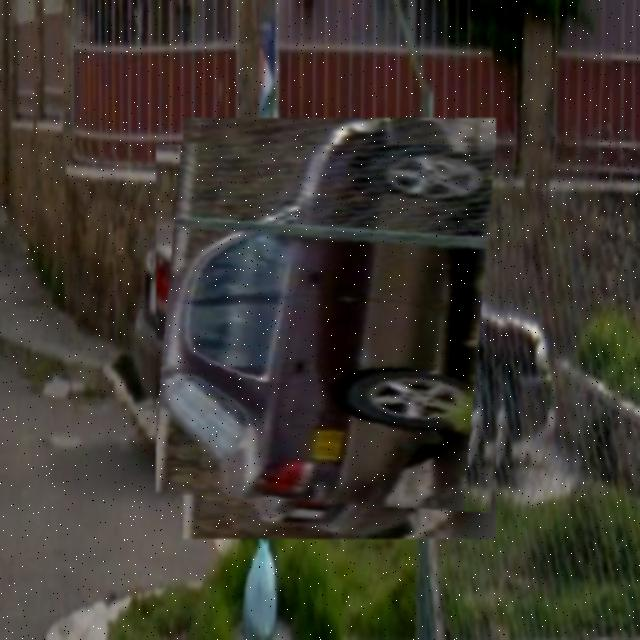car: (157, 146, 524, 514)
